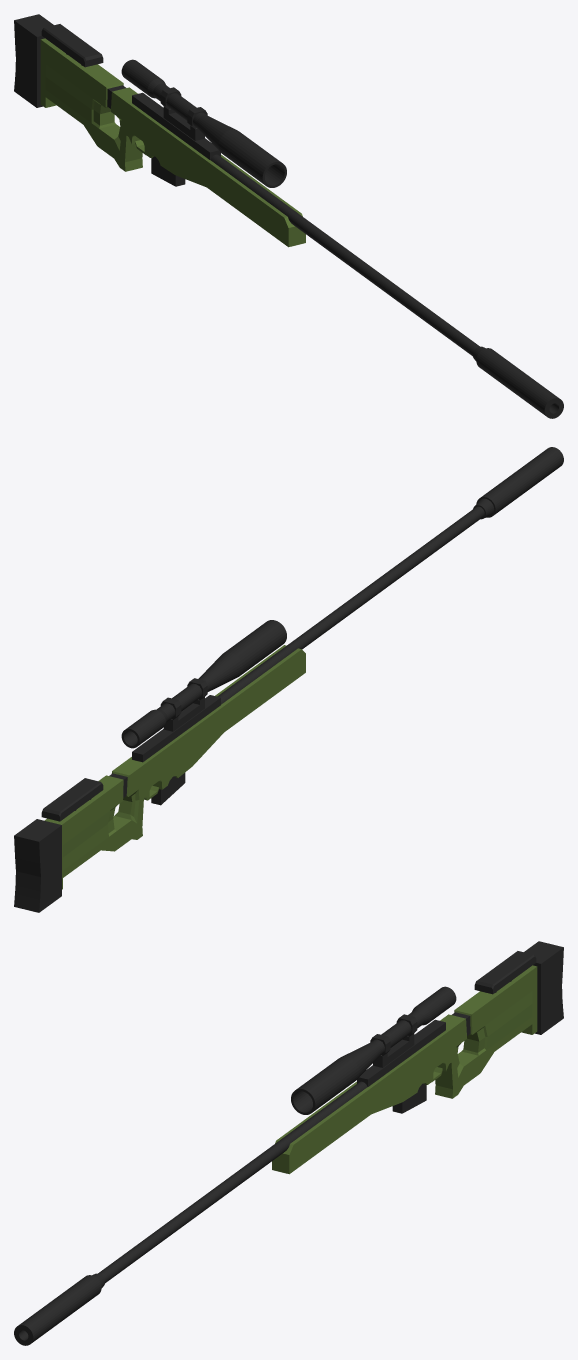
Rendered from Gun4.fbx.
3 renders of one model, top to bottom at view 1: azimuth 30°, elevation 25°; view 2: azimuth 150°, elevation 25°; view 3: azimuth 330°, elevation 25°, orthographic.
Visible parts, largest first — view 1: hontai, scape; view 2: hontai, scape; view 3: hontai, scape.
Part boxes in pixels (<box>): hontai: <box>14,14,563,418</box>; scape: <box>121,59,286,187</box>; hontai: <box>14,447,563,912</box>; scape: <box>121,620,286,748</box>; hontai: <box>14,941,563,1345</box>; scape: <box>291,986,456,1114</box>.
Size of the model in its own units: 114 by 481 by 4167.
